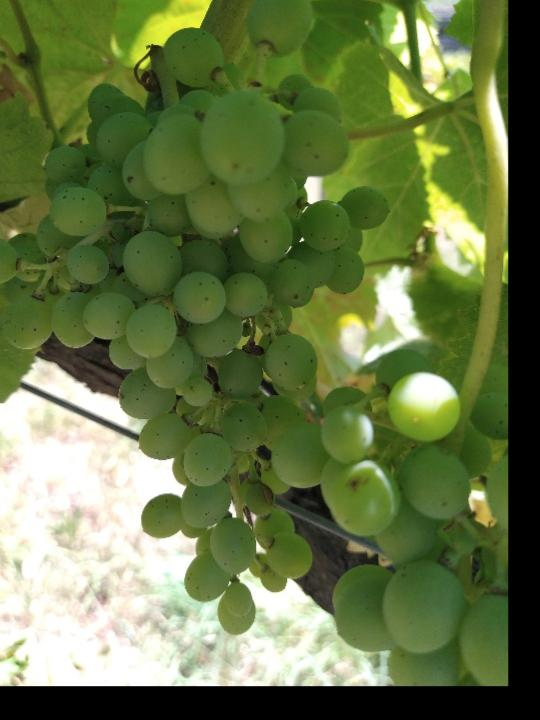grape: (0, 0, 391, 639)
